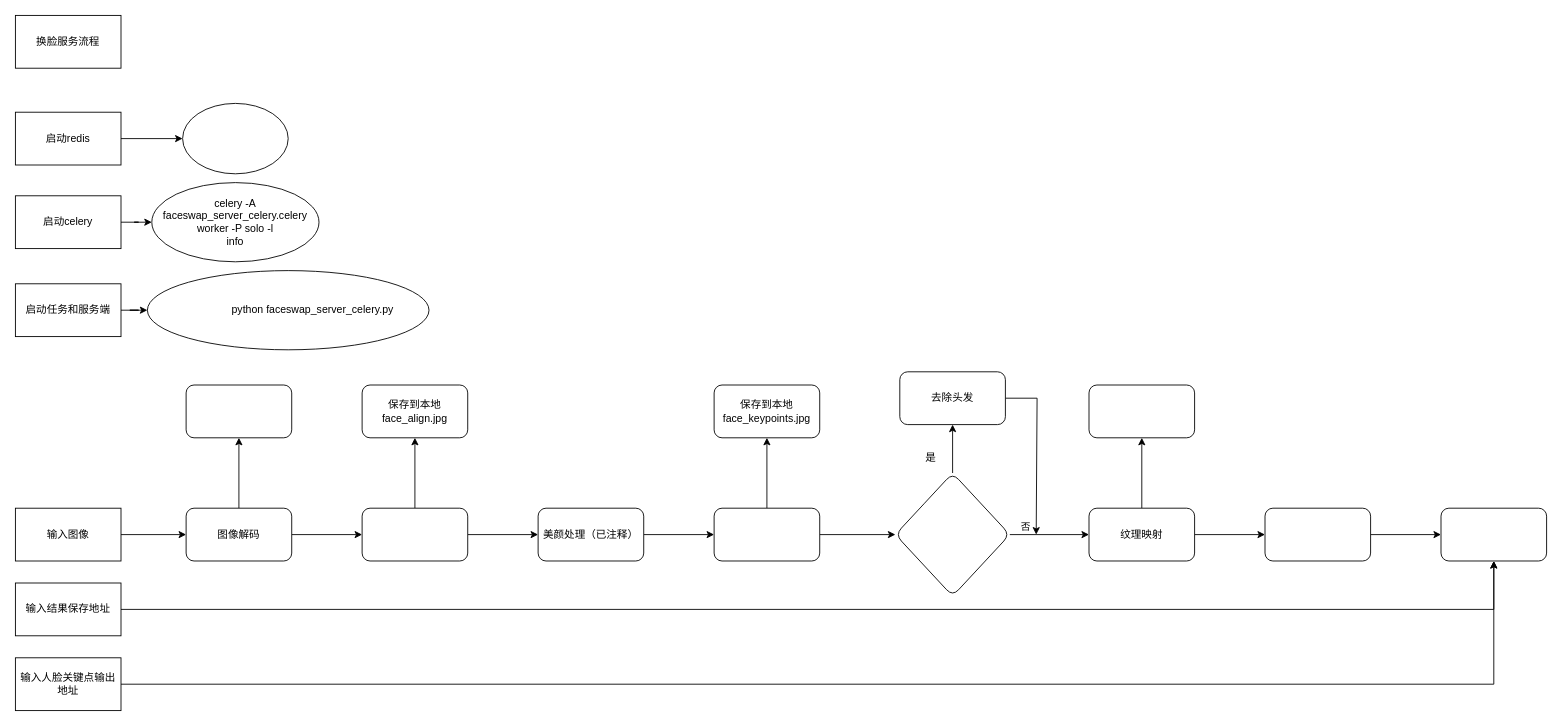
The diagram is 1562 pixels wide and 726 high, and some of its shapes have lost their labels. Each missing label, with the centre of its shape:
"redis-server" belongs at [235,138].
"上传结果文件到指定位置" belongs at [1493,534].
"人脸对齐" belongs at [414,534].
"保存到本地input.jpg" belongs at [238,411].
"保存到本地纹理结果" belongs at [1141,411].
"是否去除头发（参数指定）" belongs at [952,534].
"获取人脸关键点" belongs at [766,534].
"读取纹理图像获取面部颜色" belongs at [1317,534].
